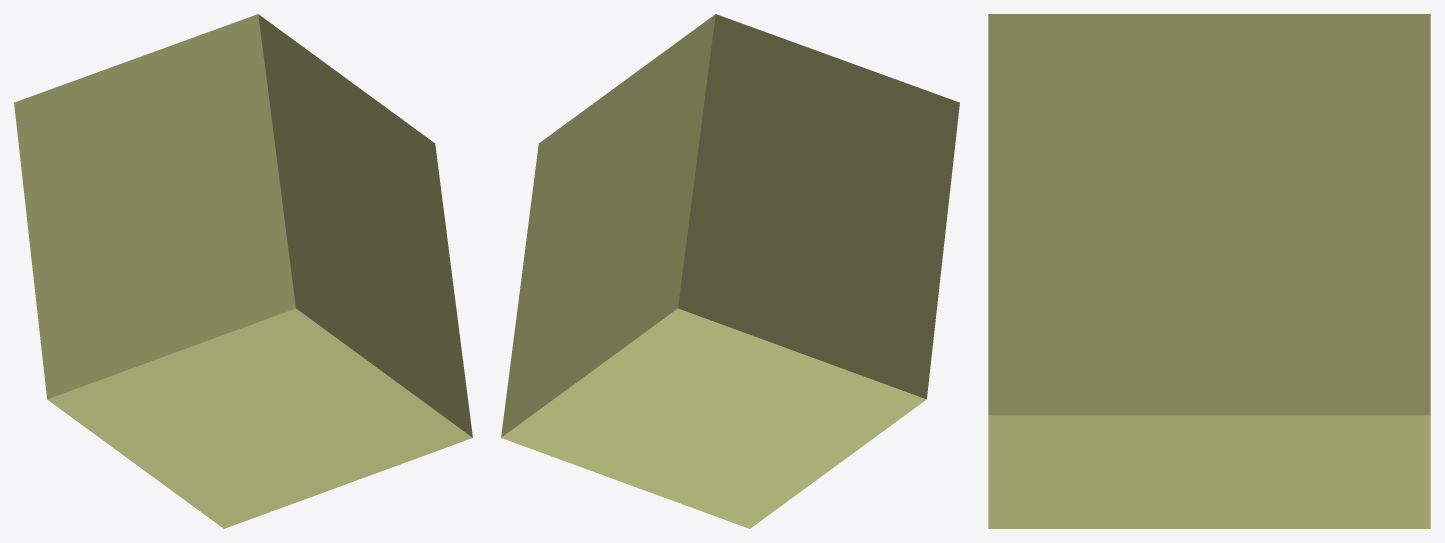
3 views of the same model, side by side, from view 1: azimuth 30°, elevation 25°; view 2: azimuth 150°, elevation 25°; view 3: azimuth 270°, elevation 25° (orthographic). The views are drawn at different scales.
Visible parts, largest first — view 1: 0_1_2_3_3_3_3_0_2_0_3; view 2: 0_1_2_3_3_3_3_0_2_0_3; view 3: 0_1_2_3_3_3_3_0_2_0_3.
Part boxes in pixels (box(x1,y1,x2,y2)): 0_1_2_3_3_3_3_0_2_0_3: box(14, 14, 472, 528); 0_1_2_3_3_3_3_0_2_0_3: box(501, 14, 959, 528); 0_1_2_3_3_3_3_0_2_0_3: box(988, 14, 1430, 528).
Bounding box in the file's own units: 5.52 × 6.25 × 6.
